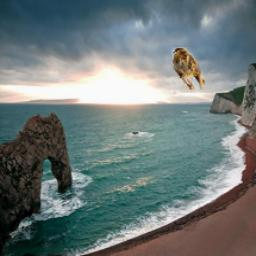Sparrow: (171, 48, 205, 91)
